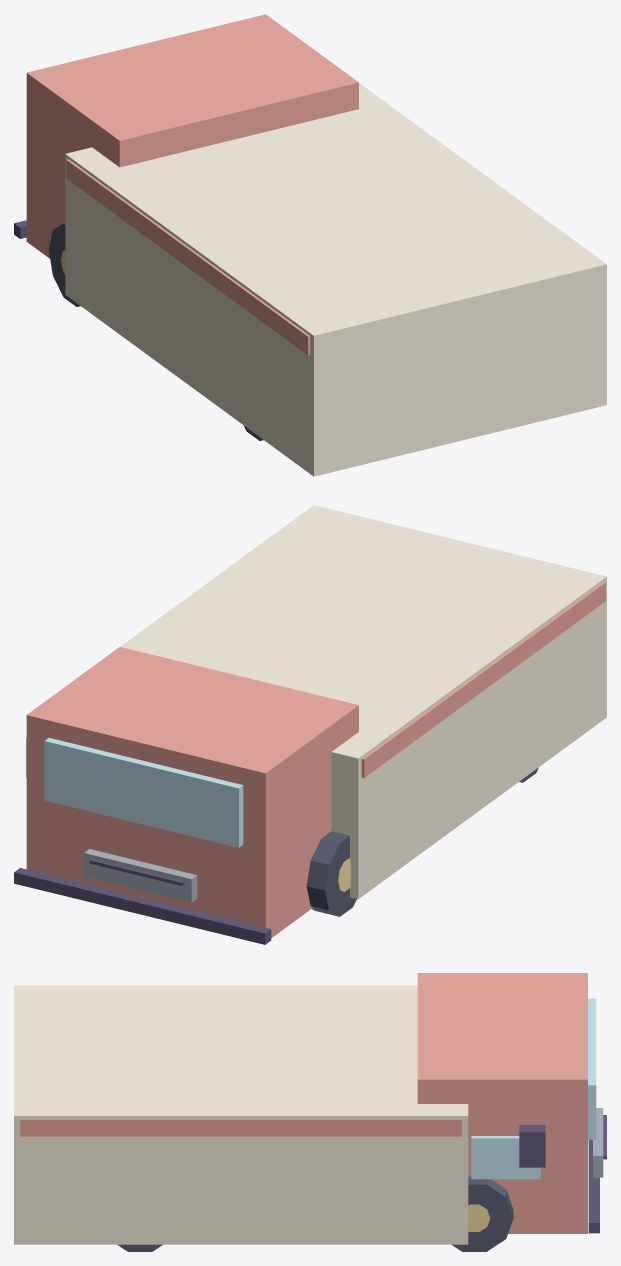
The model's file is player_truck_lod1.glb.
3 renders of one model, top to bottom at view 1: azimuth 30°, elevation 25°; view 2: azimuth 150°, elevation 25°; view 3: azimuth 270°, elevation 25°, orthographic. The views are drawn at different scales.
Visible parts, largest first — view 1: Trailer_Body, Cab_Body, Trailer_Stripe, Wheel_1; view 2: Trailer_Body, Cab_Body, Windshield, Trailer_Stripe, Front_Bumper, Front_Grille, Wheel_1; view 3: Trailer_Body, Cab_Body, Trailer_Stripe, Wheel_2, Cab_Side_Window, Windshield, Mirror, Front_Bumper, Front_Grille, Hub_2.
Boxes of the visible parts, x1,y1,x2,y2 form: Trailer_Body: (65, 83, 606, 476); Cab_Body: (26, 14, 358, 258); Trailer_Stripe: (66, 159, 310, 355); Wheel_1: (48, 223, 80, 306); Trailer_Body: (120, 505, 606, 899); Cab_Body: (26, 647, 358, 937); Windshield: (44, 738, 243, 847); Trailer_Stripe: (361, 582, 605, 777); Front_Bumper: (14, 868, 271, 944); Front_Grille: (84, 849, 197, 902); Wheel_1: (306, 831, 356, 916); Trailer_Body: (14, 985, 468, 1244); Cab_Body: (417, 973, 587, 1233); Trailer_Stripe: (20, 1118, 461, 1136); Wheel_2: (452, 1176, 513, 1251); Cab_Side_Window: (471, 1136, 540, 1179); Windshield: (588, 998, 596, 1139); Mirror: (519, 1125, 545, 1167); Front_Bumper: (588, 1139, 599, 1233); Front_Grille: (593, 1108, 603, 1177); Hub_2: (468, 1204, 490, 1231).
Size of the model in its own units: 4.98 by 2.87 by 9.4.
